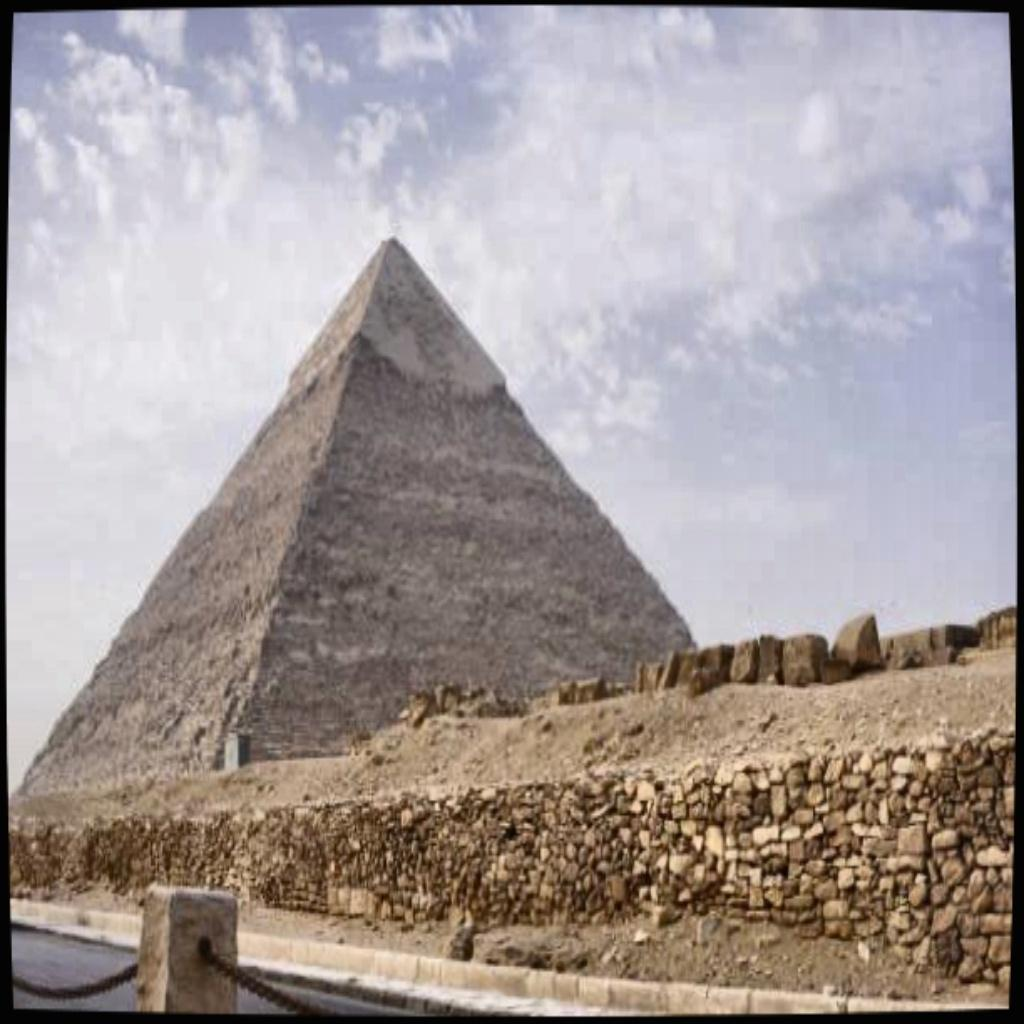Great Pyramids of Giza: (8, 231, 700, 808)
